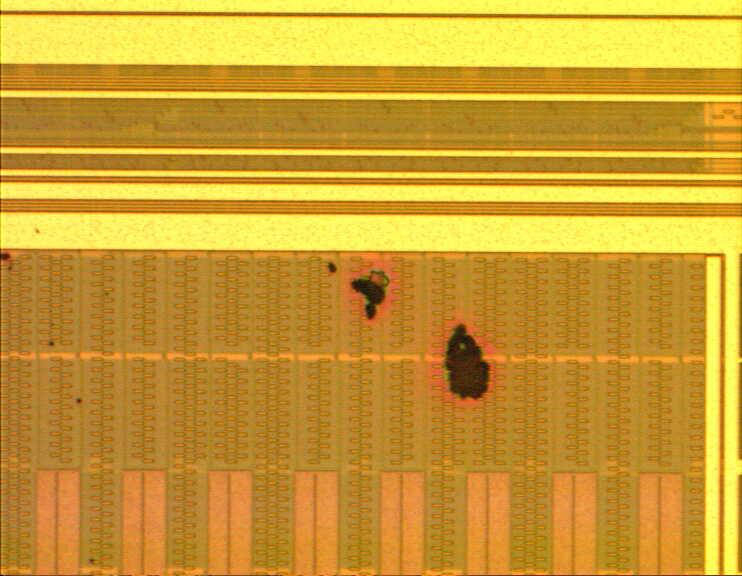PO CONTAMINATION: (1, 225, 499, 570)
